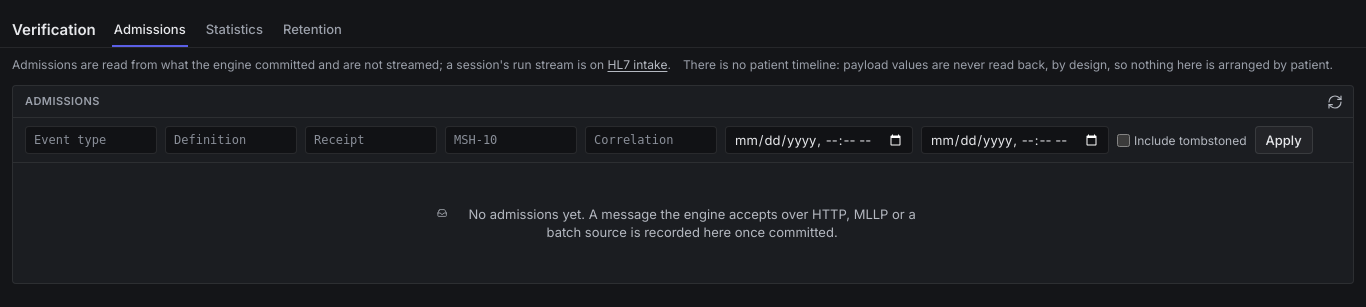
it: VerificationPage statistics and retention › keeps the error inline when a read is refused
Click the tab "Statistics".
click(234, 30)  # box [204,12,265,47]
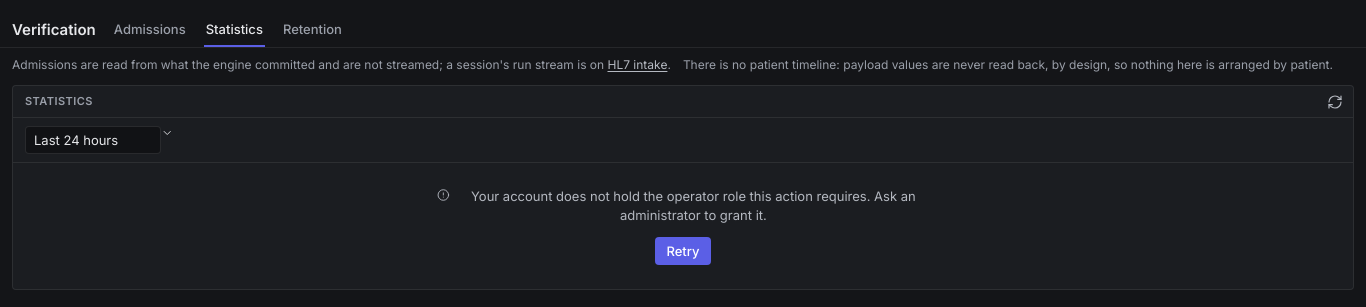
Now the message is shown, box [437,187,916,265]
Now the button "Retry" is shown, box [656,237,710,265]
